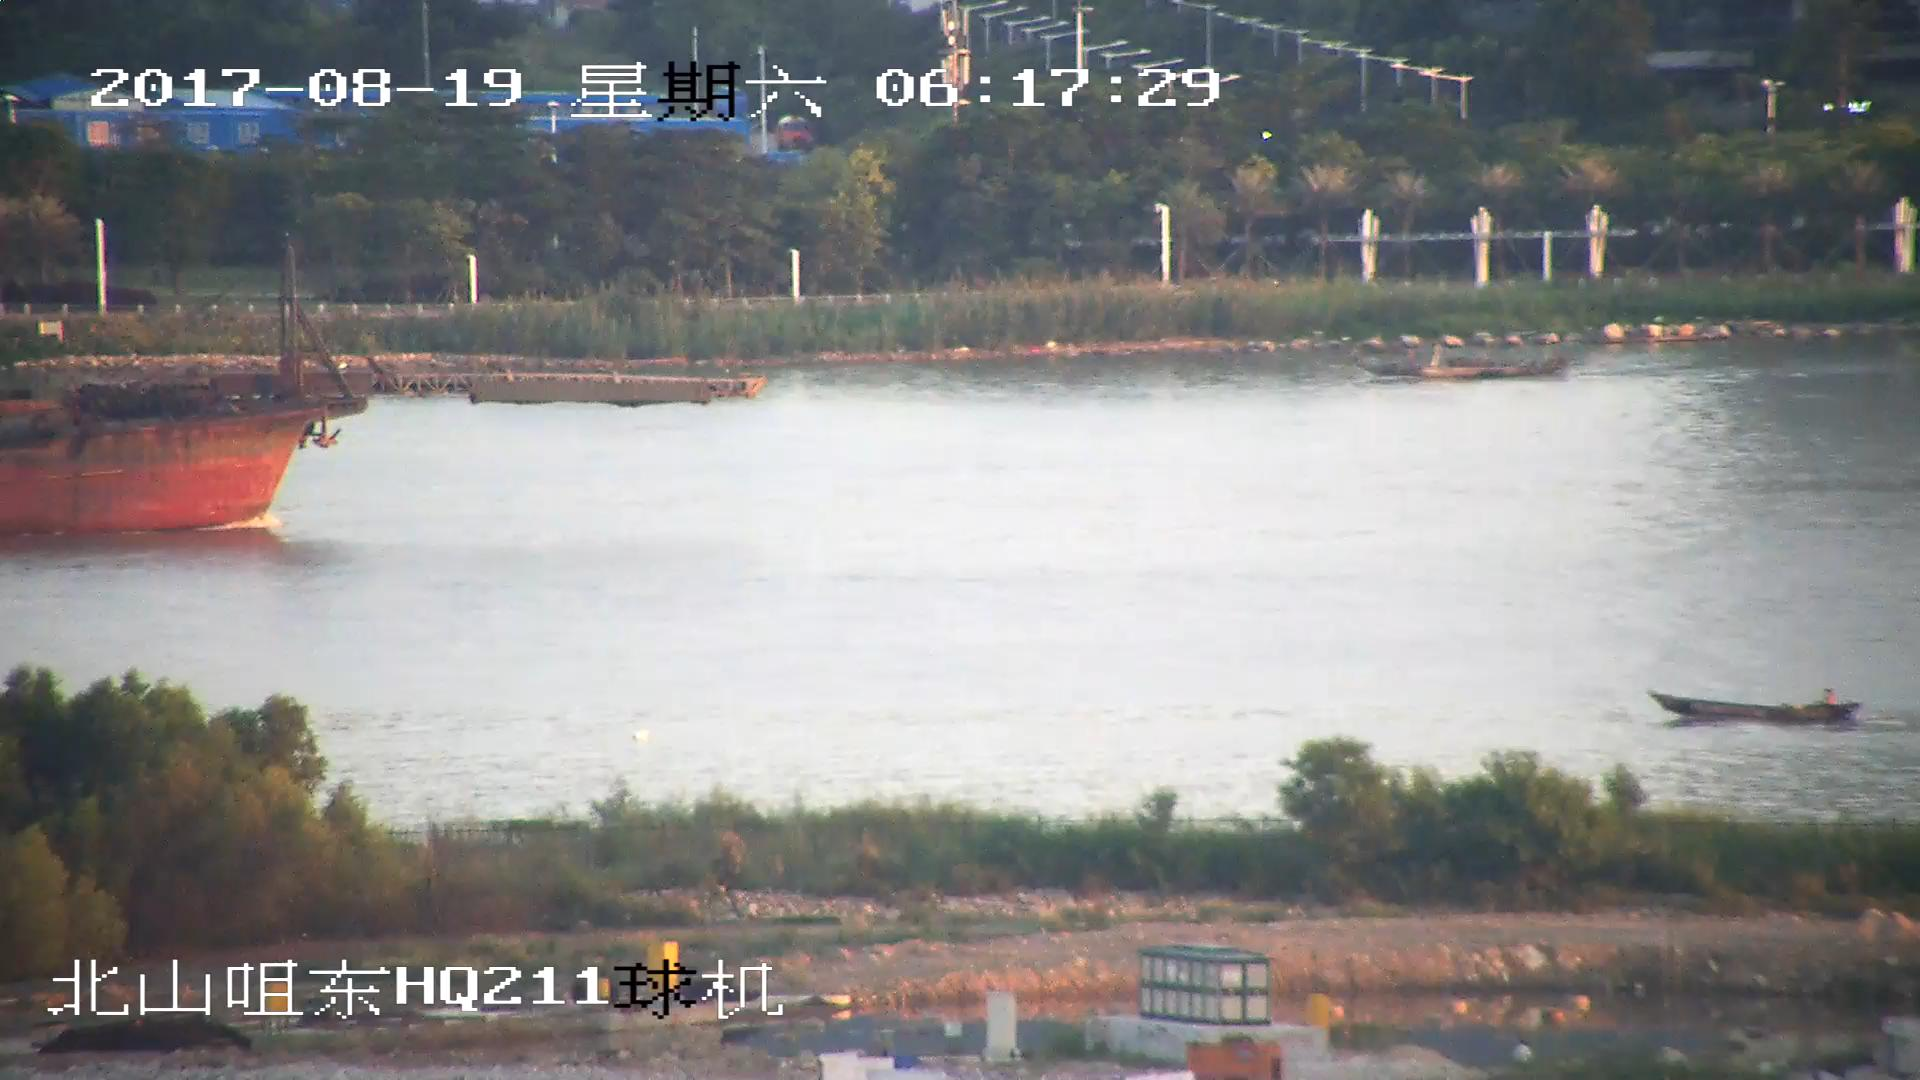bulk cargo carrier: (1, 240, 761, 544)
fishing boat: (1653, 685, 1859, 726), (1361, 342, 1578, 378)
